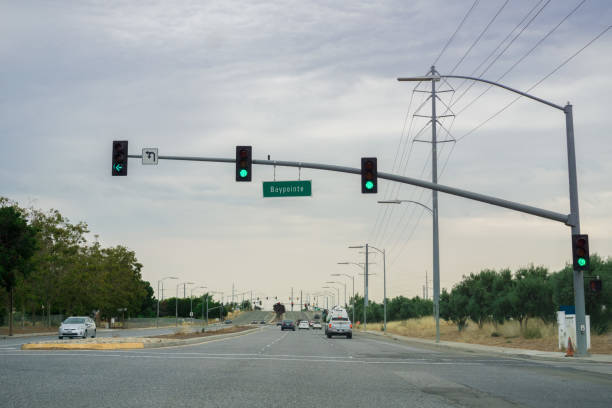trafficlight: (571, 233, 590, 272), (360, 156, 378, 194), (235, 145, 253, 182), (112, 139, 129, 176)
